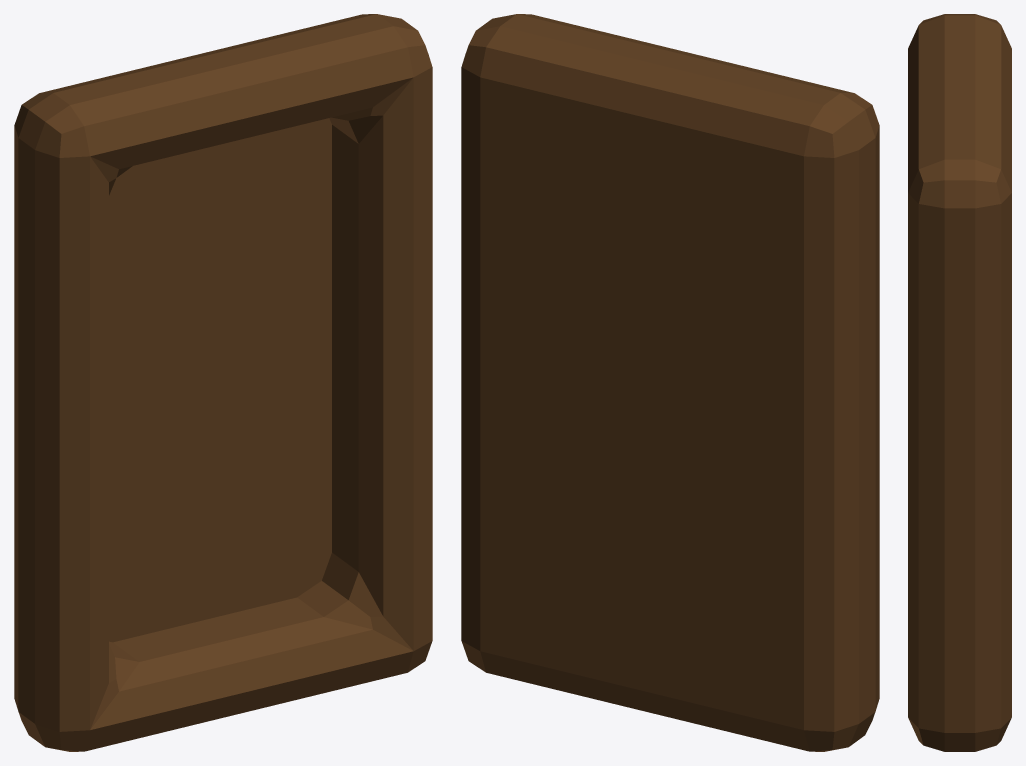
Rendered from Photoframe2.fbx.
3 views of the same model, side by side, from view 1: azimuth 30°, elevation 25°; view 2: azimuth 150°, elevation 25°; view 3: azimuth 270°, elevation 25° (orthographic). The views are drawn at different scales.
Visible parts, largest first — view 1: Frame.001; view 2: Frame.001; view 3: Frame.001.
Part boxes in pixels (<box>): Frame.001: <box>14,14,432,751</box>; Frame.001: <box>461,14,879,751</box>; Frame.001: <box>908,14,1011,751</box>.
Size of the model in its own units: 28.01 by 44.02 by 7.01.
